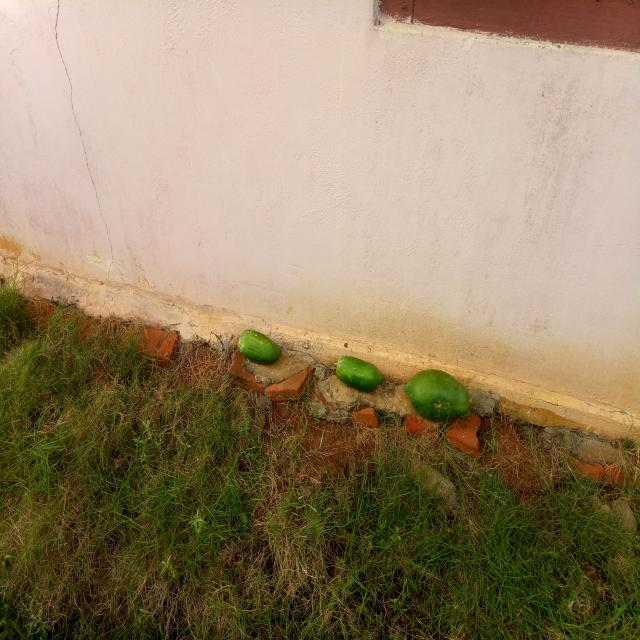Pepaya unrippen: (399, 361, 474, 428), (234, 324, 286, 372), (334, 354, 386, 395)
